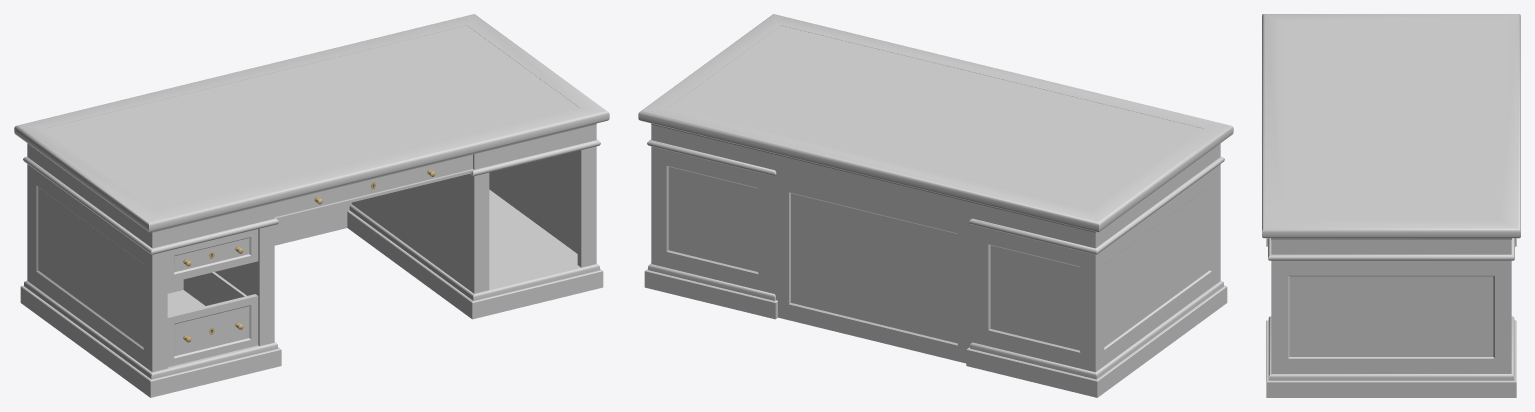
File: desk_direktion.glb
3 renders of one model, left to right at view 1: azimuth 30°, elevation 25°; view 2: azimuth 150°, elevation 25°; view 3: azimuth 270°, elevation 25°, orthographic. The views are drawn at different scales.
Parts seen in each view (by area): view 1: carcass, leather, drawer_l, drawer_s, drawer_c; view 2: carcass, leather; view 3: carcass, leather.
Boxes of the visible parts, x1=… form: carcass: x1=14, y1=14, x2=609, y2=397; leather: x1=45, y1=25, x2=579, y2=210; drawer_l: x1=167, y1=272, x2=258, y2=367; drawer_s: x1=167, y1=229, x2=258, y2=283; drawer_c: x1=274, y1=154, x2=472, y2=216; carcass: x1=638, y1=14, x2=1233, y2=397; leather: x1=668, y1=25, x2=1202, y2=210; carcass: x1=1262, y1=14, x2=1520, y2=397; leather: x1=1283, y1=22, x2=1499, y2=220.
Size of the model in its own units: 2.12 by 0.78 by 1.07.
1 material, 1 textured.
